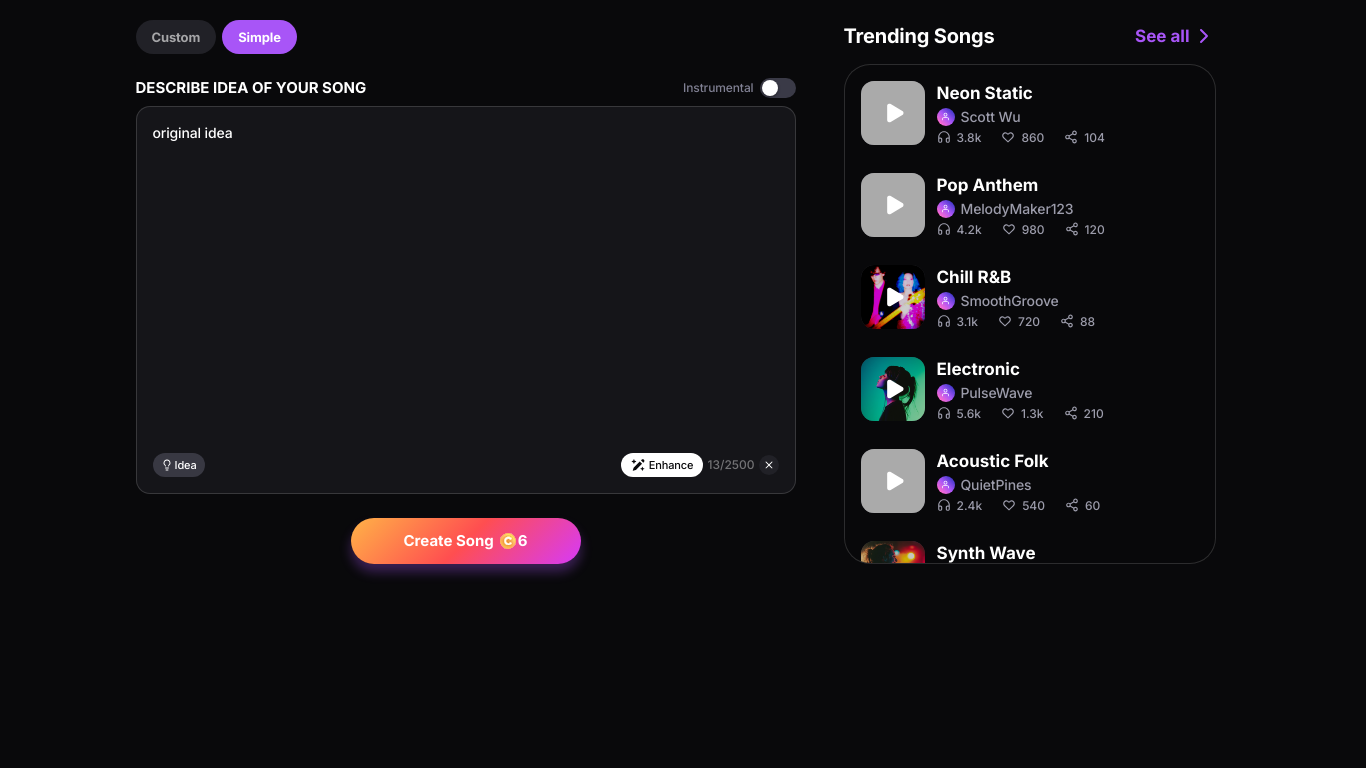
Song Enhance error presentation › does not turn an unrelated invalid parameter into a language error
The width and height of the screenshot is (1366, 768).
Click the button "Enhance": (662, 465) [621,453,703,477]
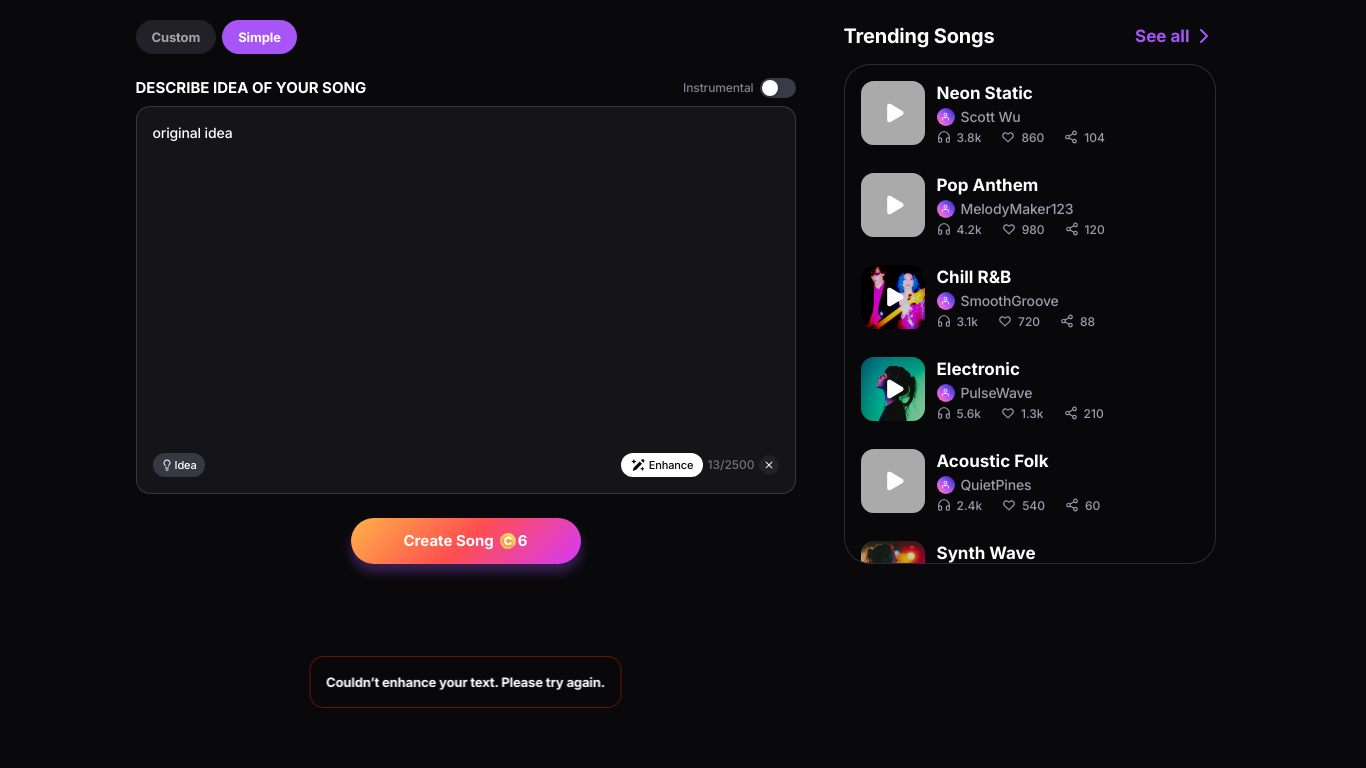
expect the message reads "Couldn’t enhance your text. Please try again.": met, box [326,674,605,690]
